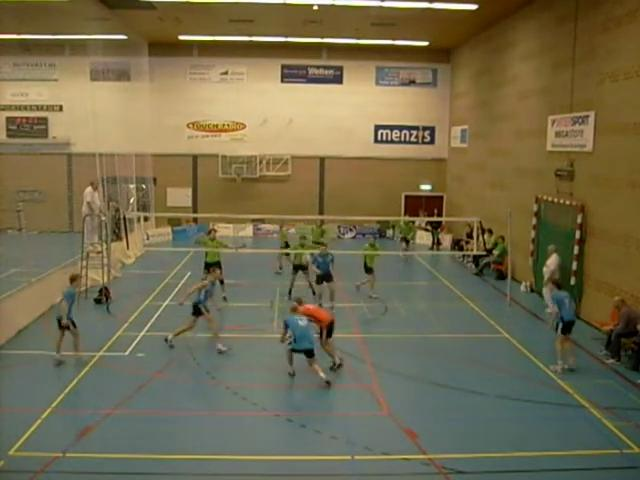ricezione: (282, 291, 354, 371), (273, 301, 331, 386)
